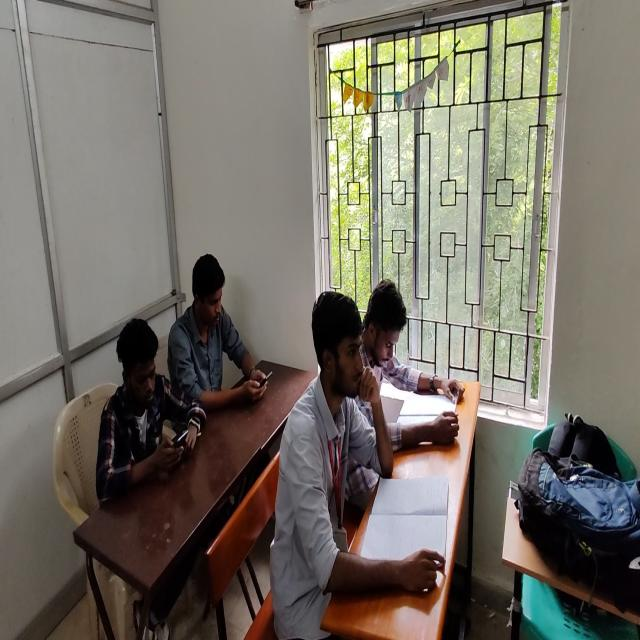reading: (286, 292, 410, 640), (352, 279, 464, 510)
using_mobile: (96, 314, 209, 504), (168, 252, 268, 423)
